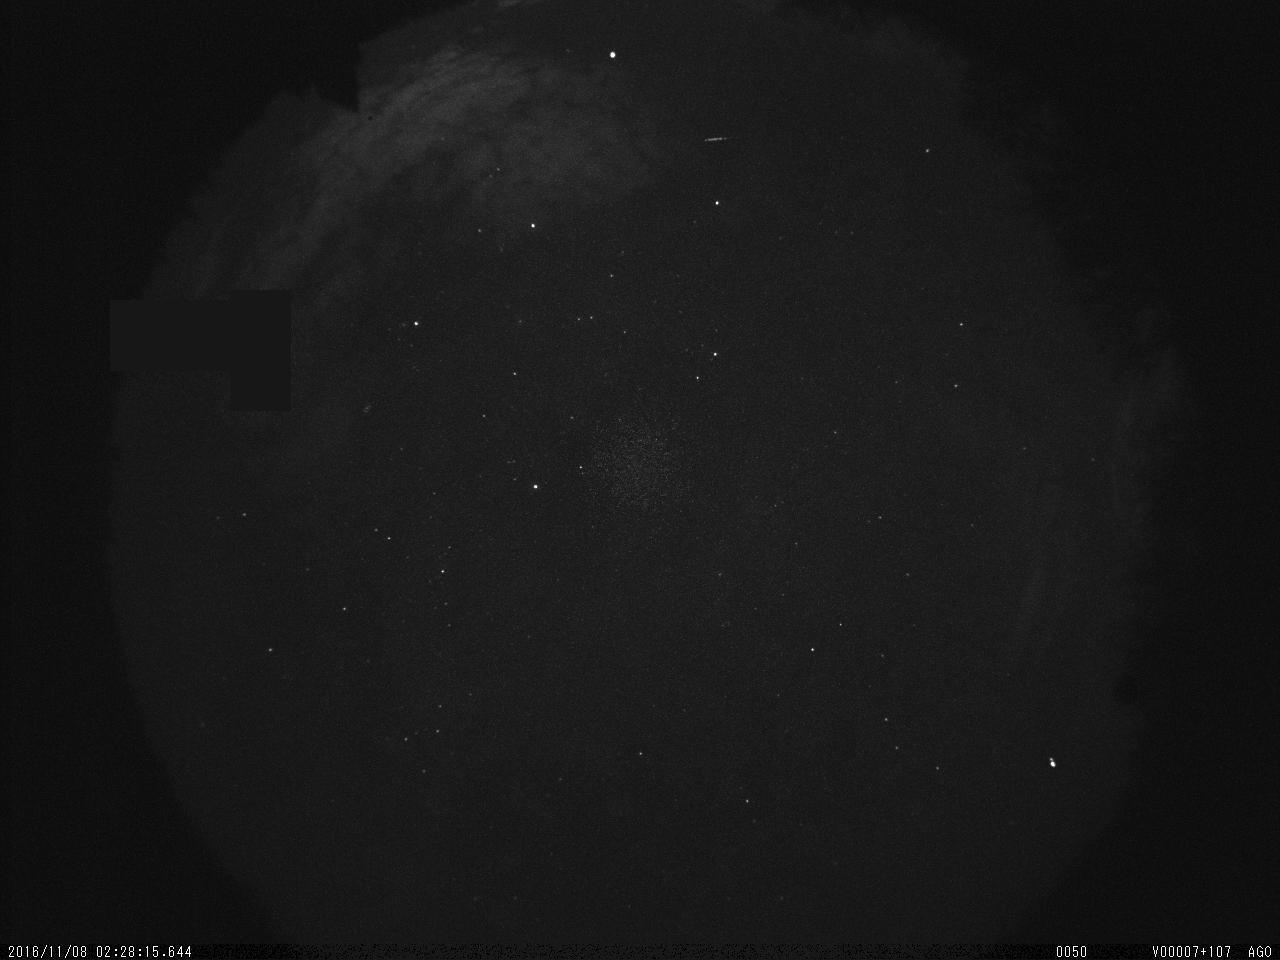meteor: (698, 132, 740, 147)
